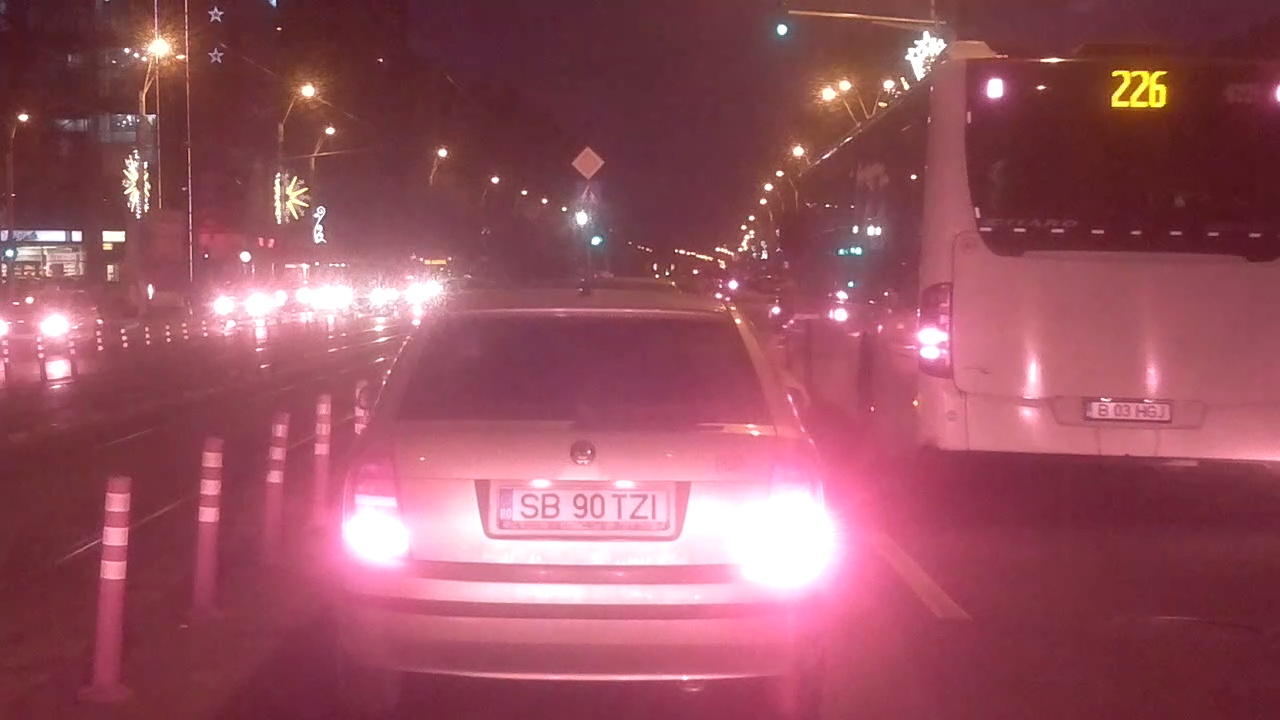license-plate: (493, 484, 672, 527), (1082, 398, 1174, 423)
